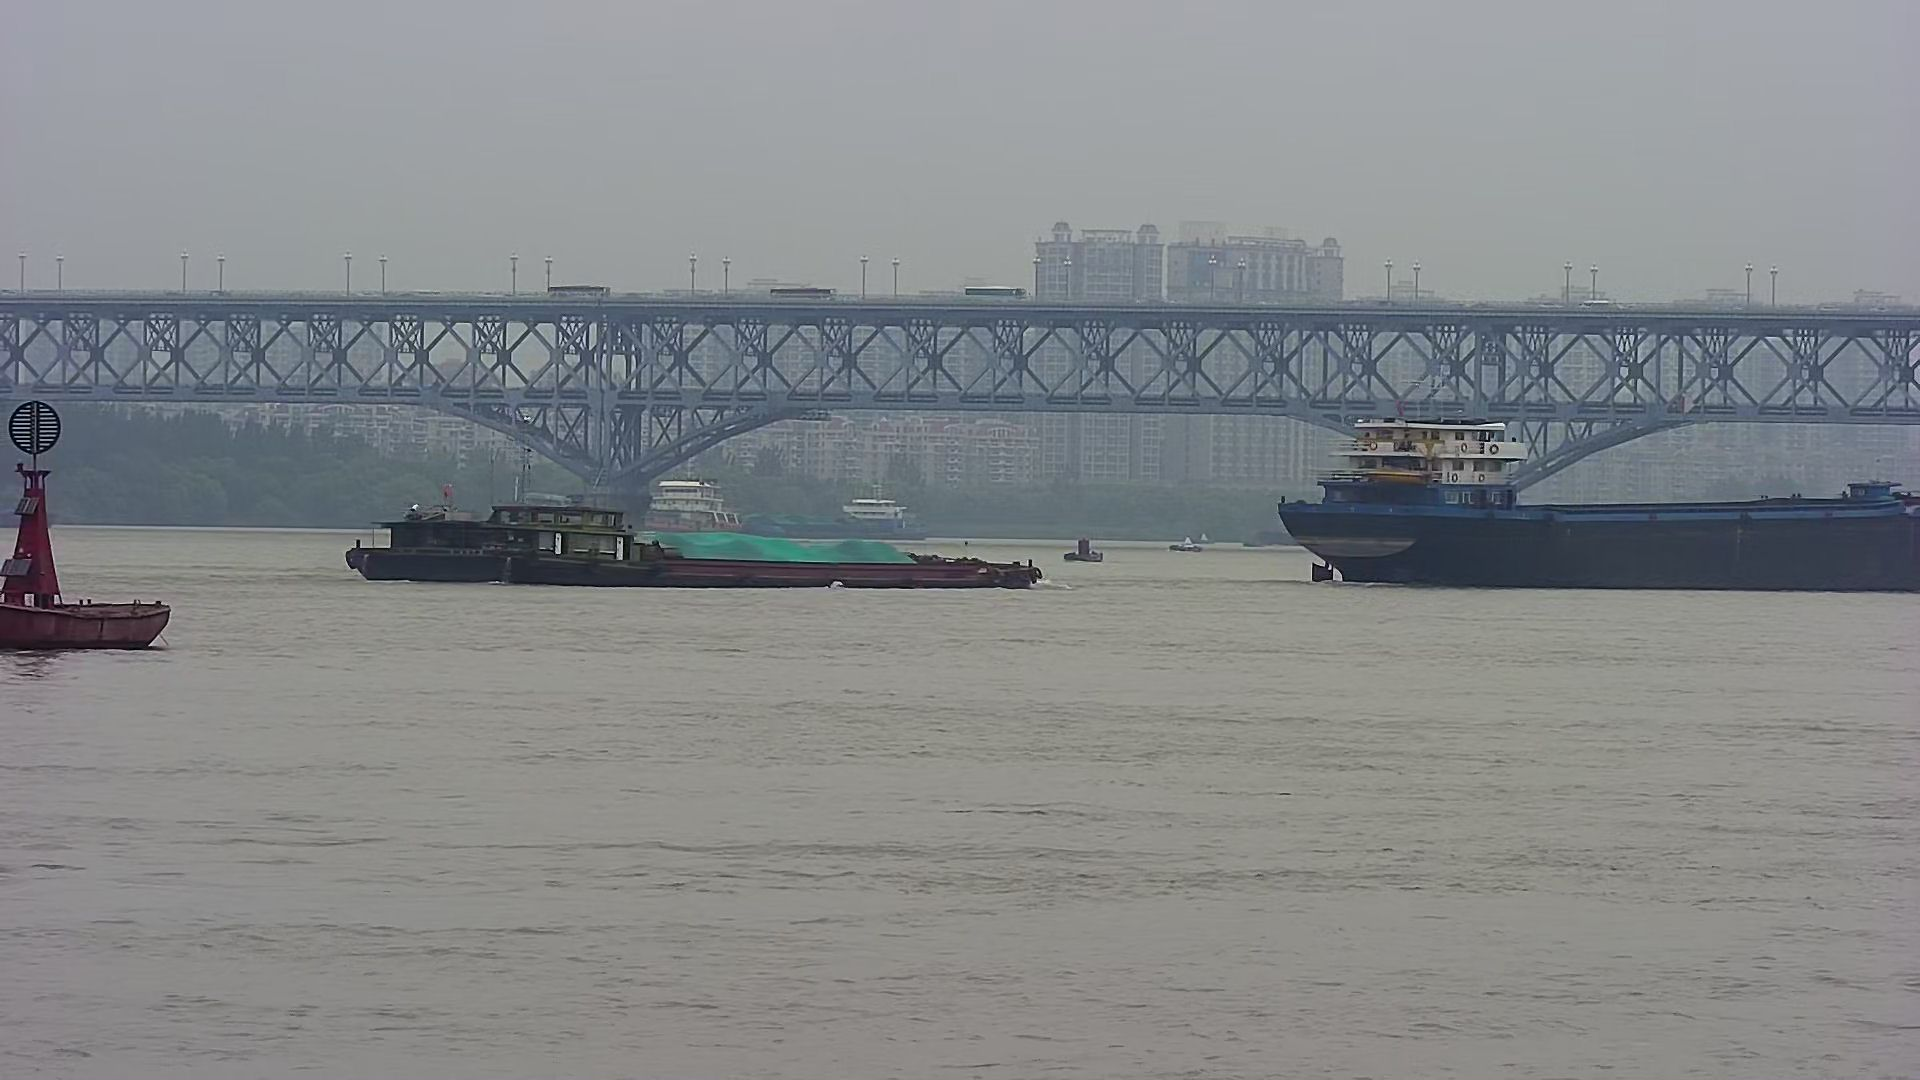boat: (1, 388, 198, 653), (1055, 531, 1113, 572), (1160, 526, 1213, 564)
bridge: (4, 287, 1920, 542)
ship: (1255, 401, 1911, 596), (324, 476, 1077, 600), (516, 473, 746, 539), (746, 481, 939, 542)
